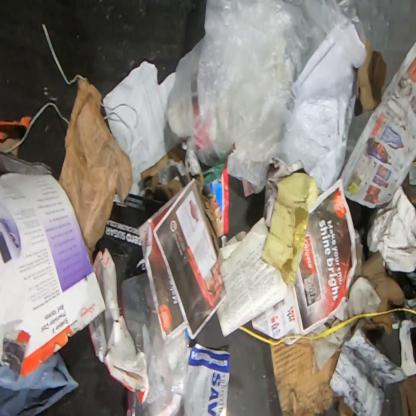cardboard: (57, 74, 136, 274), (269, 334, 341, 415)
soft_plastic: (167, 1, 368, 194), (121, 272, 191, 414), (0, 352, 78, 415)
